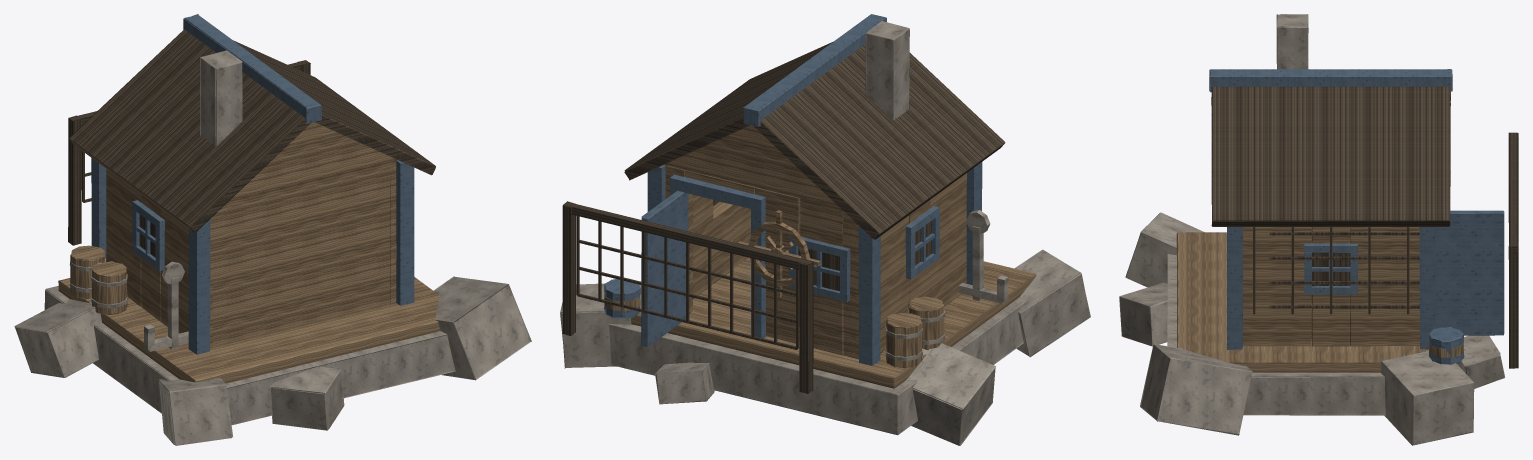
Rendered from bobbin_captain_shack.glb.
3 renders of one model, left to right at view 1: azimuth 30°, elevation 25°; view 2: azimuth 150°, elevation 25°; view 3: azimuth 270°, elevation 25°, orthographic. The views are drawn at different scales.
Visible parts, largest first — view 1: BobbinCaptainShack; view 2: BobbinCaptainShack, ShipWheel; view 3: BobbinCaptainShack.
Boxes of the visible parts, box(x1,y1,x2,y2) form: BobbinCaptainShack: box(14, 14, 531, 445); BobbinCaptainShack: box(560, 14, 1090, 445); ShipWheel: box(737, 210, 820, 297); BobbinCaptainShack: box(1119, 14, 1518, 445).
Size of the model in its own units: 6.42 by 5.17 by 5.82.
Materials: 4 (4 with a texture image).
